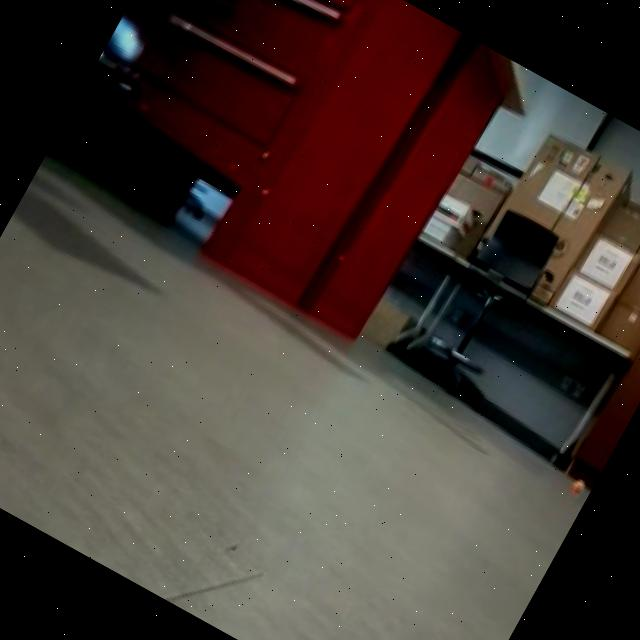ping-pong-ball: (566, 472, 592, 502)
